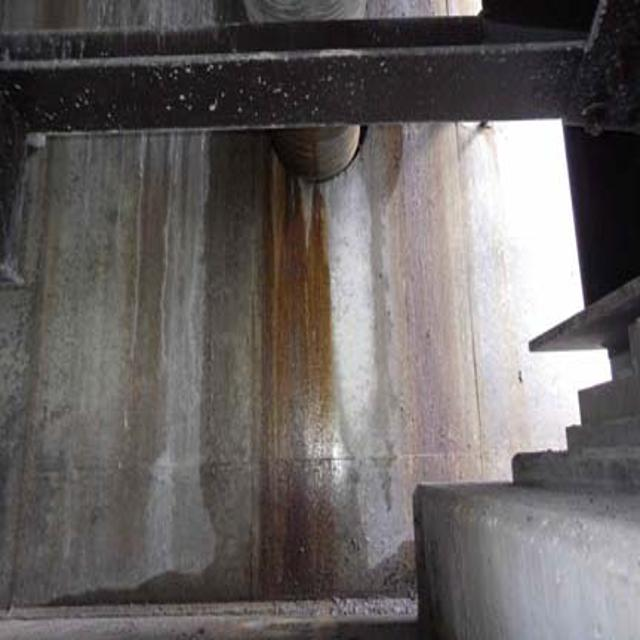leakage: (199, 129, 370, 607)
